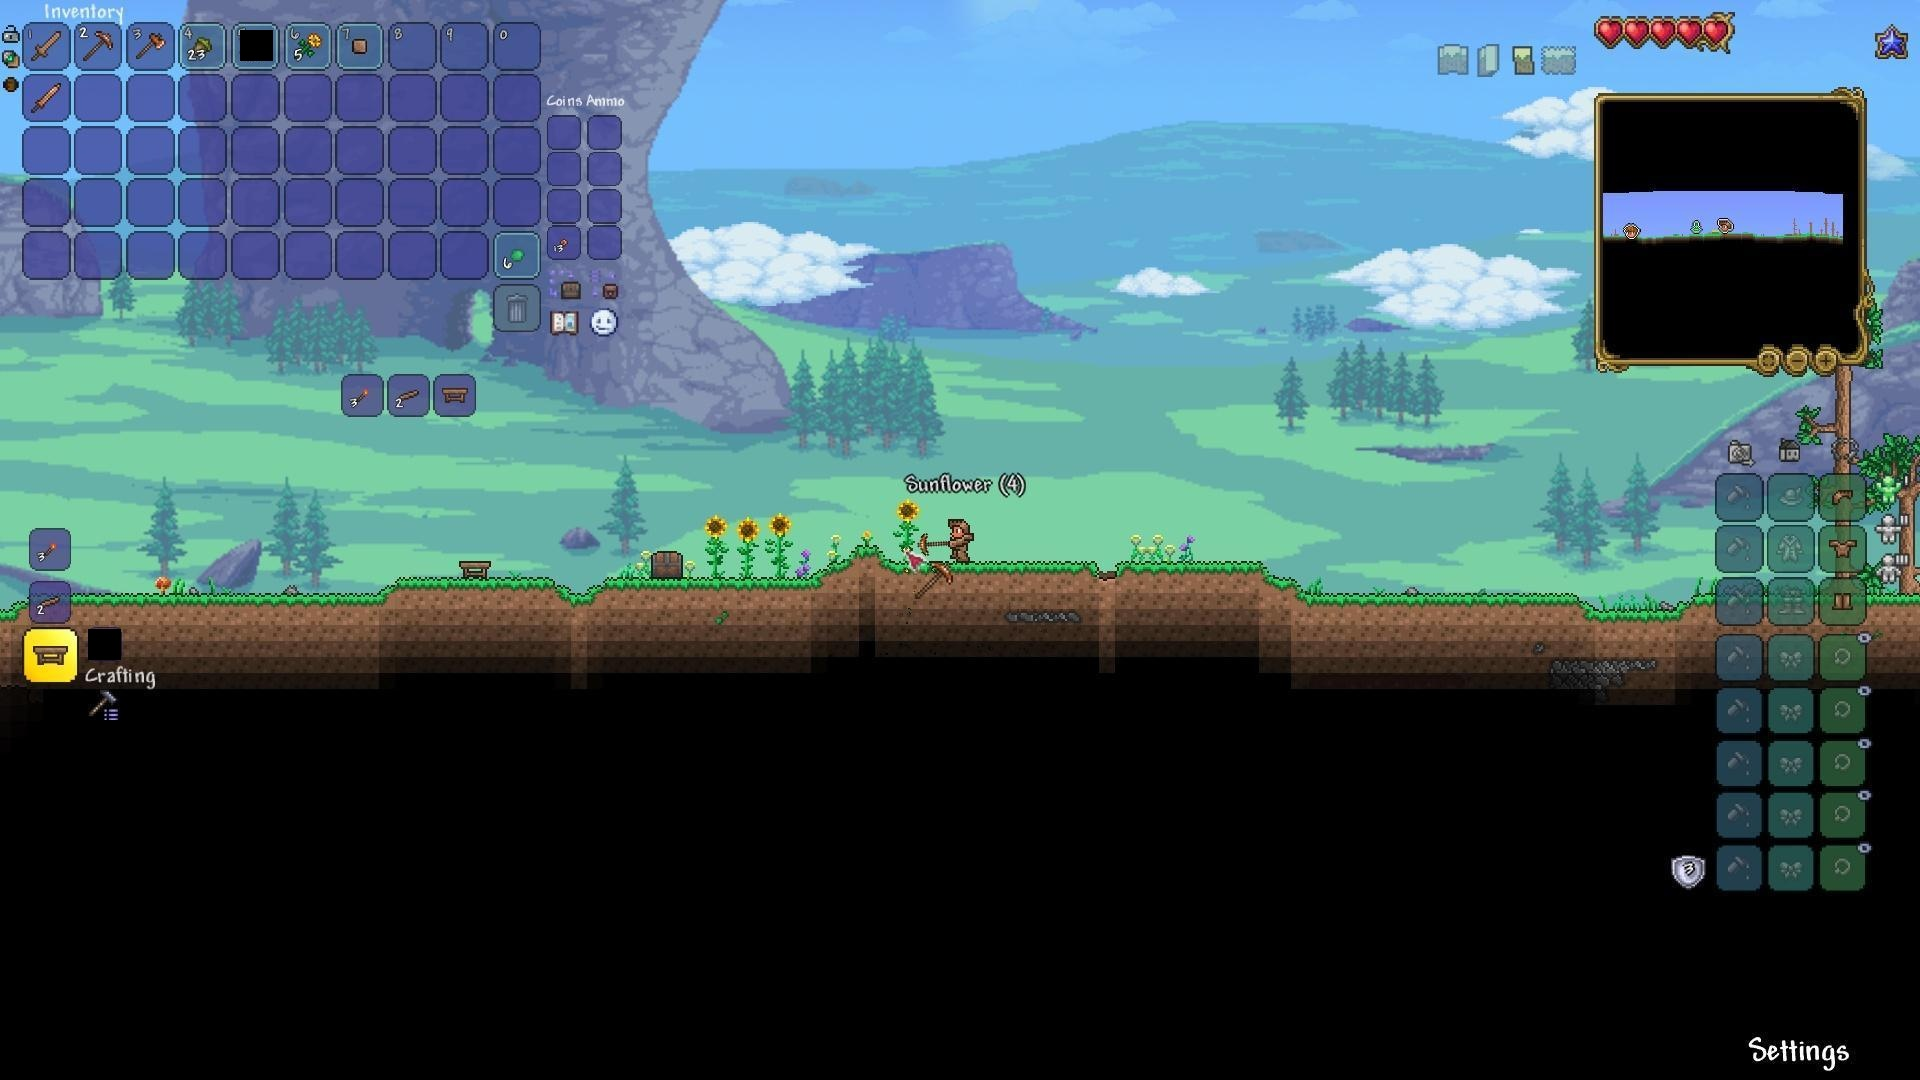breastplate: (1829, 537, 1857, 556)
helmet: (1826, 483, 1857, 509)
legs: (1832, 585, 1857, 615)
workbench: (32, 641, 69, 666), (436, 382, 473, 407), (458, 559, 495, 580)
